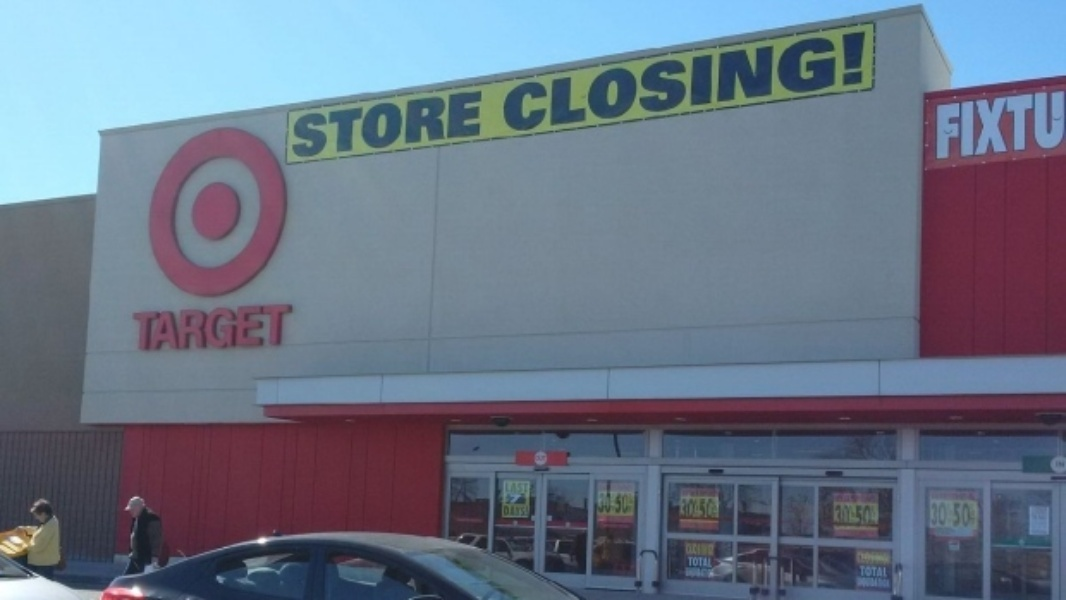text: (849, 30, 865, 135), (513, 30, 528, 135), (529, 30, 544, 135), (545, 30, 560, 135), (561, 30, 576, 135), (577, 30, 592, 135), (593, 30, 608, 135), (609, 30, 624, 135), (625, 30, 640, 135), (641, 30, 656, 135), (657, 30, 672, 135), (673, 30, 688, 135), (689, 30, 704, 135), (705, 30, 720, 135), (721, 30, 736, 135), (737, 30, 752, 135), (753, 30, 768, 135), (769, 30, 784, 135), (785, 30, 800, 135), (801, 30, 816, 135), (817, 30, 832, 135), (833, 30, 848, 135), (945, 90, 960, 162), (961, 90, 976, 162), (977, 90, 992, 162), (993, 90, 1008, 162), (1009, 90, 1024, 162), (1025, 90, 1040, 162), (1041, 90, 1056, 162), (305, 90, 320, 159), (321, 90, 336, 159), (337, 90, 352, 159), (353, 90, 368, 159), (369, 90, 384, 159), (385, 90, 400, 159), (401, 90, 416, 159), (417, 90, 432, 159), (433, 90, 448, 159), (449, 90, 464, 159), (465, 90, 480, 159), (504, 30, 512, 135), (129, 301, 144, 351), (145, 301, 160, 351), (161, 301, 176, 351), (177, 301, 192, 351), (193, 301, 208, 351), (209, 301, 224, 351), (225, 301, 240, 351), (241, 301, 256, 351), (257, 301, 272, 351), (273, 301, 288, 351), (934, 90, 944, 162), (295, 90, 304, 159), (1057, 90, 1065, 162), (931, 503, 944, 527), (289, 301, 295, 351), (836, 504, 848, 527), (961, 503, 972, 527), (597, 492, 608, 513), (705, 499, 717, 518), (865, 551, 880, 566), (513, 480, 528, 494), (689, 542, 704, 556), (481, 90, 484, 159), (855, 504, 864, 527), (614, 494, 624, 513), (513, 504, 528, 516), (881, 551, 893, 566), (865, 566, 880, 578), (865, 576, 880, 588), (953, 503, 960, 527), (865, 504, 872, 527), (705, 542, 716, 556), (689, 499, 697, 518), (689, 568, 704, 578), (681, 499, 688, 518), (689, 558, 704, 566), (881, 576, 891, 588), (504, 480, 512, 494), (705, 568, 716, 578), (503, 504, 512, 516), (857, 551, 864, 566), (513, 494, 523, 504), (625, 494, 630, 513), (609, 492, 613, 513), (881, 566, 888, 578), (857, 576, 864, 588), (700, 499, 704, 518), (945, 503, 948, 527), (705, 558, 714, 566), (534, 454, 544, 461), (849, 504, 852, 527), (860, 566, 864, 578), (508, 494, 512, 504), (529, 480, 530, 494), (687, 542, 688, 556), (529, 504, 530, 516), (687, 568, 688, 578), (687, 558, 688, 566), (545, 454, 546, 461)
